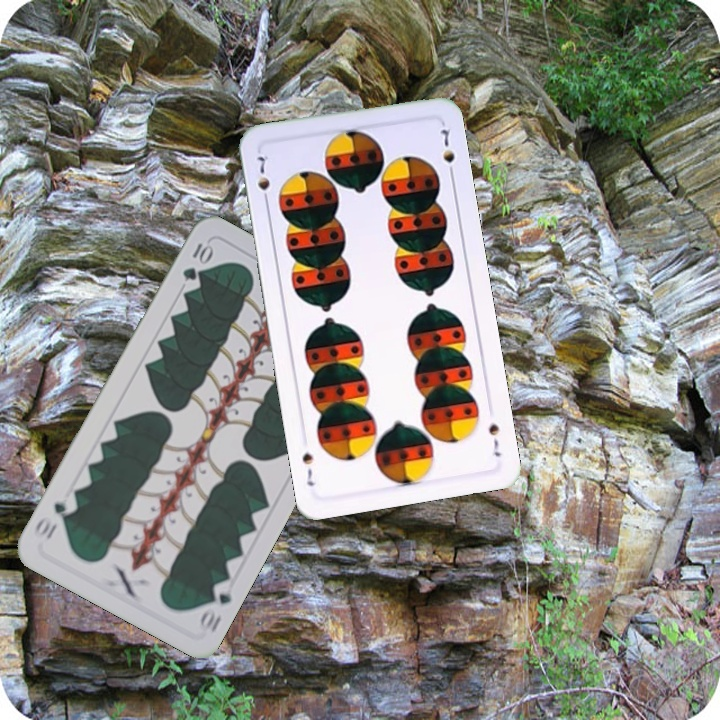G10: (194, 576, 234, 635), (178, 237, 215, 284)
S7: (253, 152, 273, 208), (484, 420, 504, 459)
